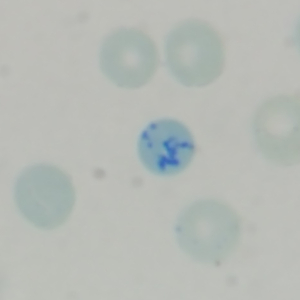aggregate reticulocyte: (134, 116, 199, 178)
erythrocyte: (162, 18, 228, 91), (12, 161, 79, 232), (98, 26, 161, 90)
punctate reticulocyte: (171, 195, 242, 266)
